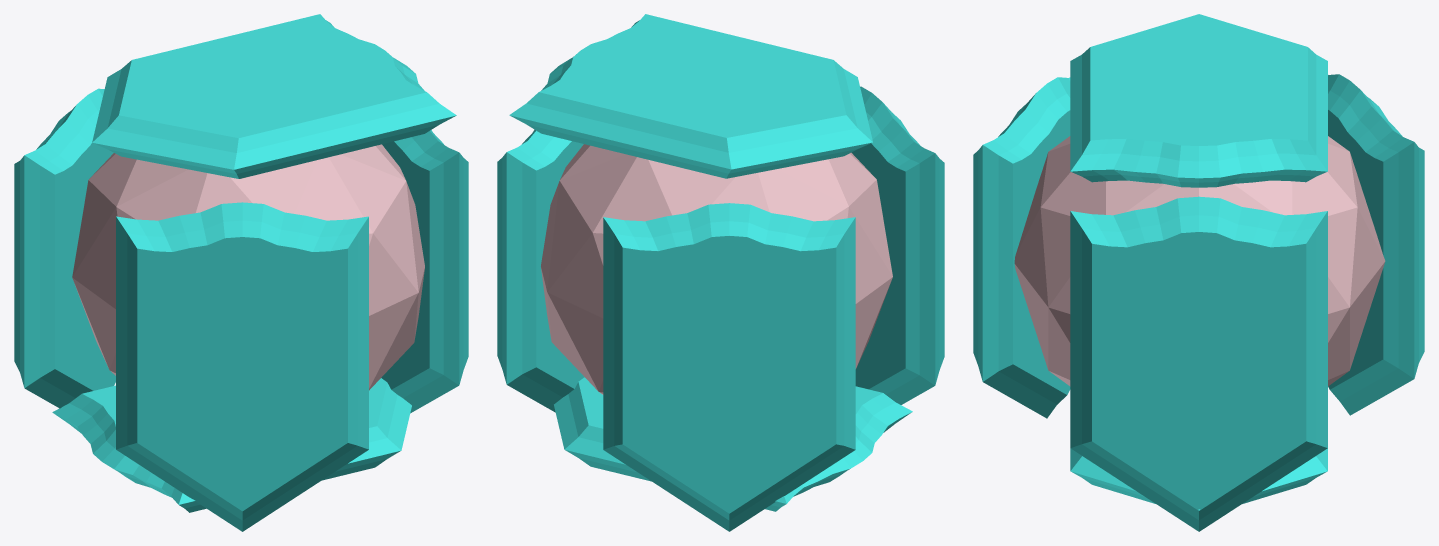
File: protect.fbx
3 views of the same model, side by side, from view 1: azimuth 30°, elevation 25°; view 2: azimuth 150°, elevation 25°; view 3: azimuth 270°, elevation 25° (orthographic).
Parts seen in each view (by area): view 1: Cube.002, Cube.003, Icosphere, Cube.001, Cube, Cube.004; view 2: Cube.001, Cube.003, Icosphere, Cube.002, Cube, Cube.004; view 3: Cube, Cube.003, Icosphere, Cube.002, Cube.001, Cube.004.
Part boxes in pixels (left/top/right/bottom): Cube.002: left=116, top=202, right=368, bottom=531; Cube.003: left=92, top=14, right=456, bottom=178; Icosphere: left=72, top=144, right=424, bottom=390; Cube.001: left=14, top=88, right=115, bottom=408; Cube: left=381, top=130, right=468, bottom=413; Cube.004: left=52, top=378, right=411, bottom=512; Cube.001: left=603, top=203, right=855, bottom=531; Cube.003: left=509, top=14, right=872, bottom=178; Icosphere: left=541, top=144, right=892, bottom=394; Cube.002: left=851, top=86, right=944, bottom=404; Cube: left=497, top=129, right=584, bottom=412; Cube.004: left=554, top=377, right=912, bottom=511; Cube: left=1070, top=196, right=1327, bottom=531; Cube.003: left=1070, top=14, right=1327, bottom=187; Icosphere: left=1014, top=136, right=1385, bottom=386; Cube.002: left=973, top=77, right=1070, bottom=418; Cube.001: left=1328, top=74, right=1424, bottom=415; Cube.004: left=1070, top=448, right=1327, bottom=510.
Size of the model in its own units: 452 by 461 by 496.
